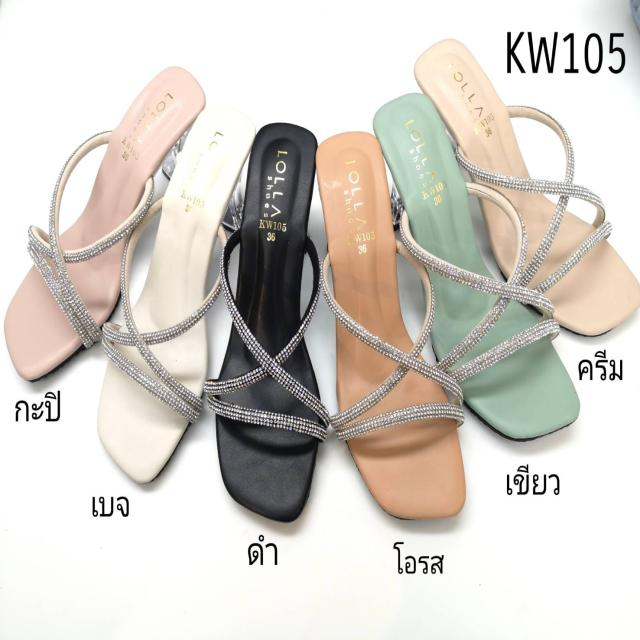bej: (96, 103, 254, 486)
black: (214, 120, 324, 529)
cream: (416, 33, 640, 336)
green: (377, 91, 578, 440)
kapi: (2, 67, 205, 381)
orot: (313, 129, 468, 524)
